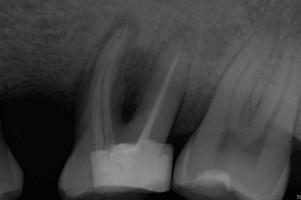Dental Caries: (120, 45, 158, 125), (99, 13, 139, 51)
